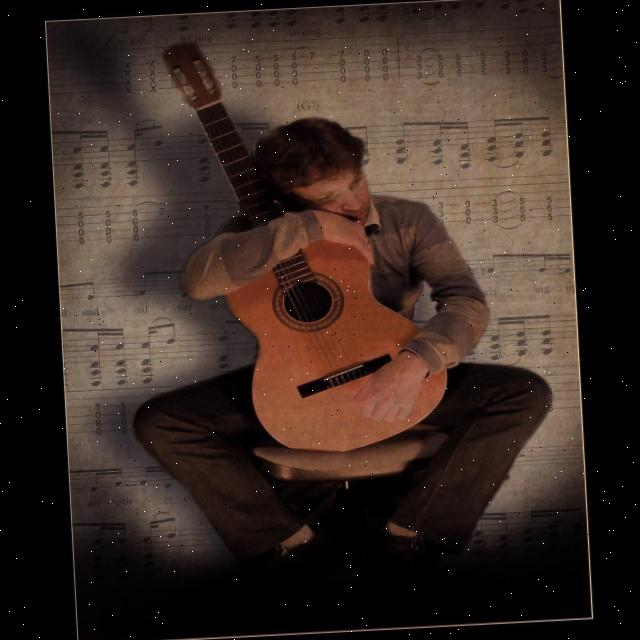guitar: (157, 26, 459, 462)
